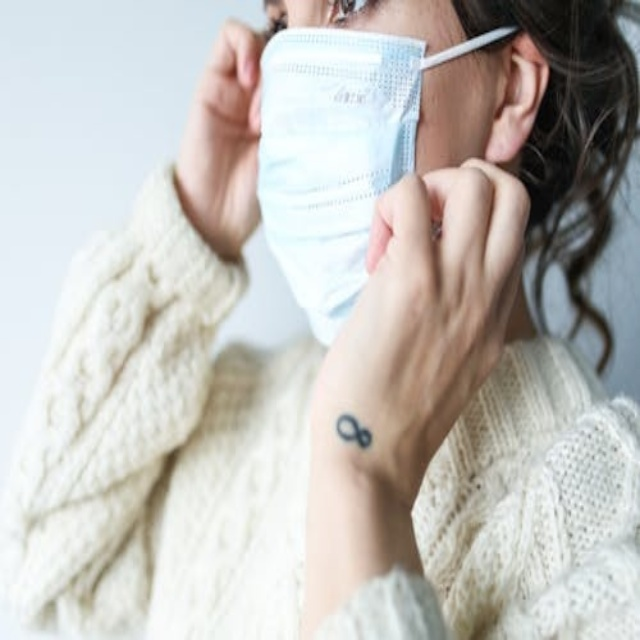Mascara: (257, 26, 432, 350)
Sin_gafas: (244, 0, 384, 52)
Sin_guantes: (318, 155, 529, 480), (160, 23, 265, 263)
